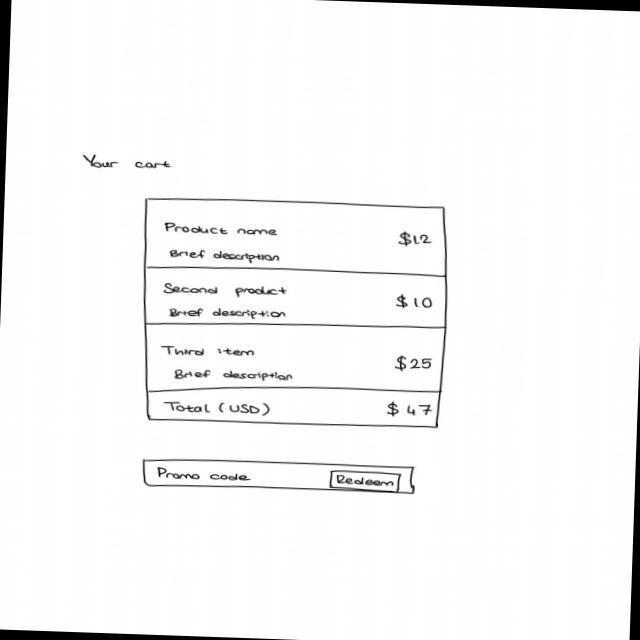button: (329, 468, 404, 492)
container: (142, 314, 451, 404), (140, 196, 452, 279), (141, 264, 451, 336), (145, 381, 444, 431), (142, 456, 418, 497)
label: (162, 281, 289, 300), (163, 221, 281, 239), (163, 399, 273, 418), (174, 368, 295, 385), (169, 306, 288, 323), (168, 249, 281, 266), (155, 465, 254, 484), (81, 152, 174, 172), (161, 345, 257, 361), (386, 401, 434, 420), (394, 355, 434, 376), (392, 292, 435, 311), (397, 231, 435, 249)
